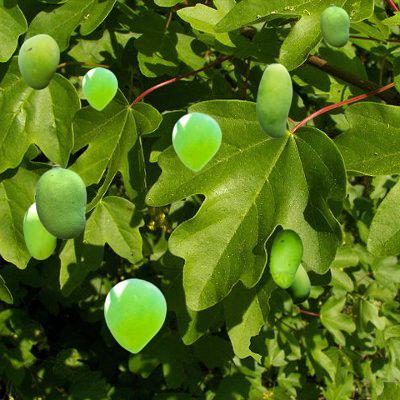green_mango: (104, 278, 165, 352), (35, 164, 85, 238), (172, 112, 220, 170), (256, 63, 291, 137), (18, 34, 58, 88), (269, 229, 302, 287), (23, 202, 57, 258), (82, 67, 116, 109), (320, 4, 348, 46), (282, 264, 309, 303)
